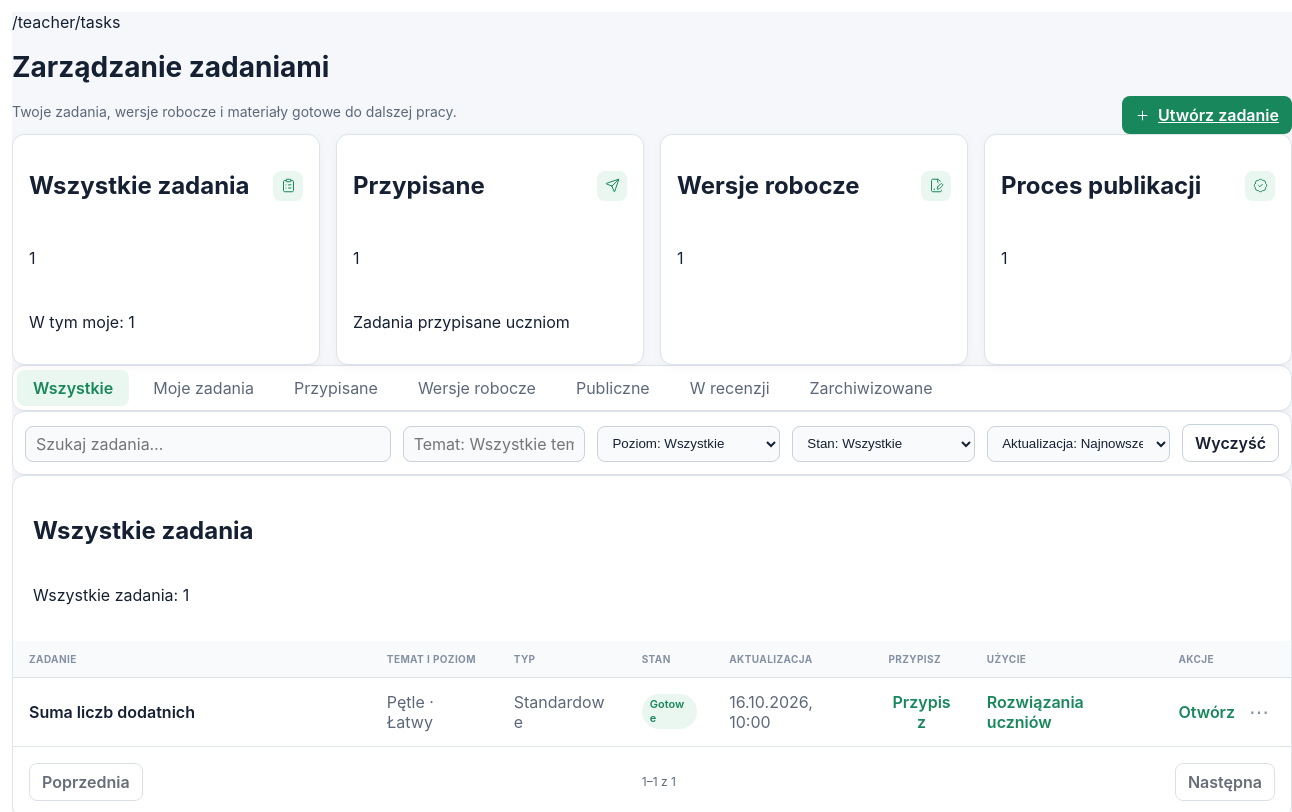
Test case: submits an own ready task for publication
Expected: the table is shown, [13, 641, 1291, 746]
Click the button "⋯". click: (1259, 712)
box: [1243, 696, 1275, 728]
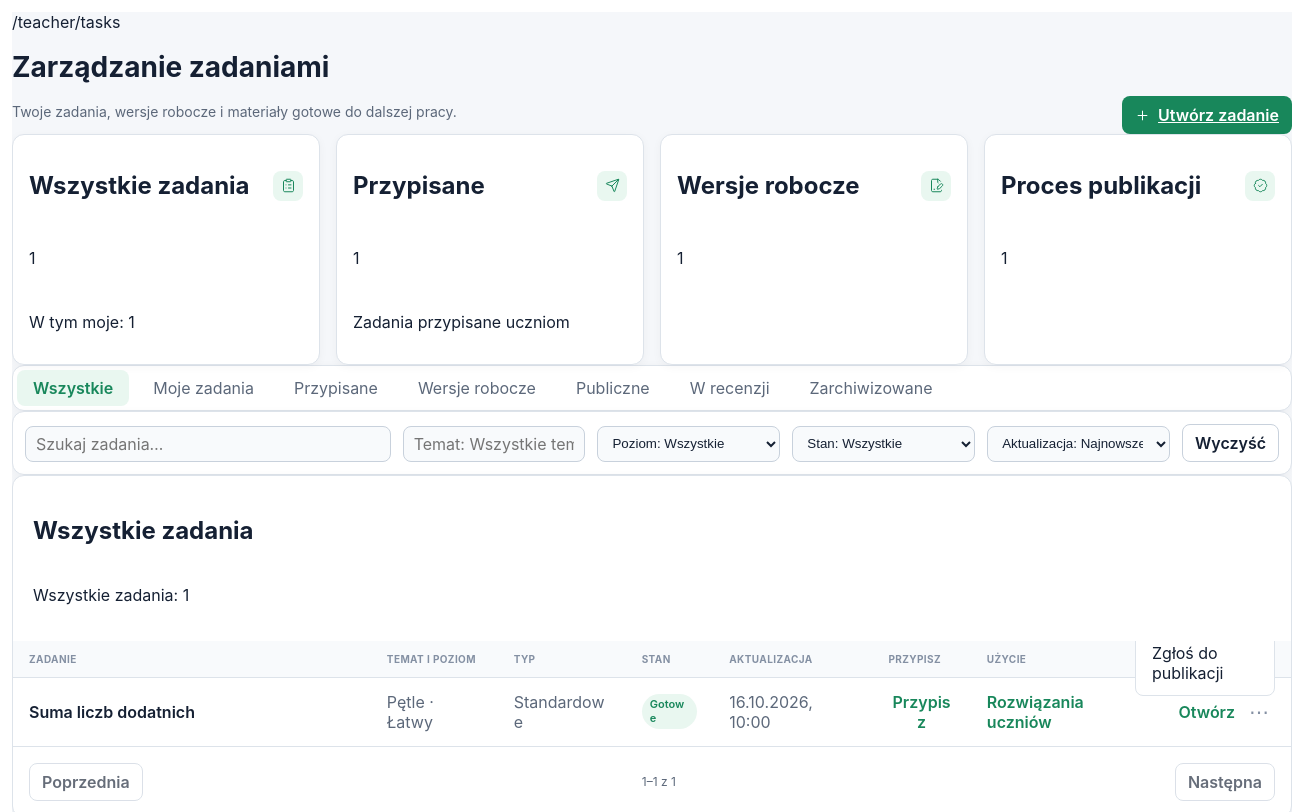
Click the button "Zgłoś do publikacji". click: (1205, 663)
box: [1140, 635, 1270, 691]
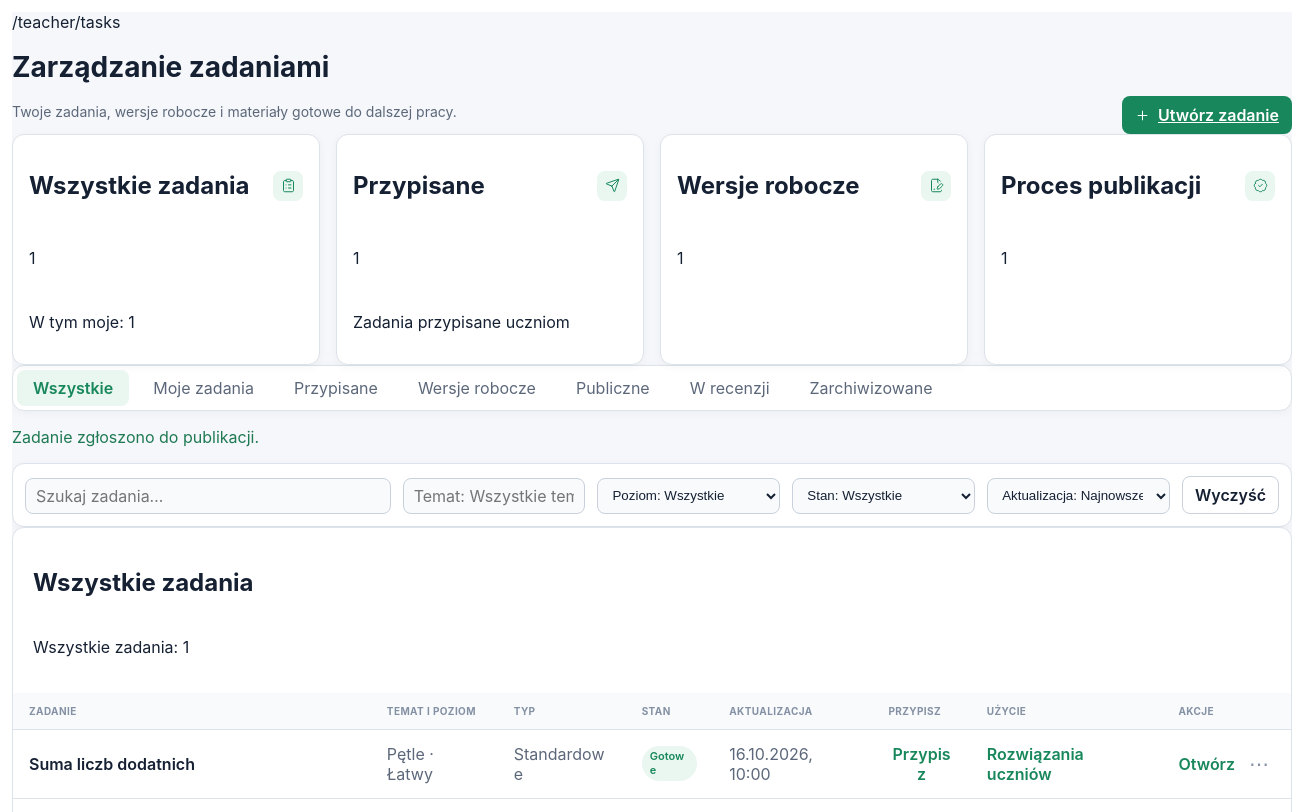
Expected: the text "Zadanie zgłoszono do publikacji." is shown, [12, 427, 259, 447]
